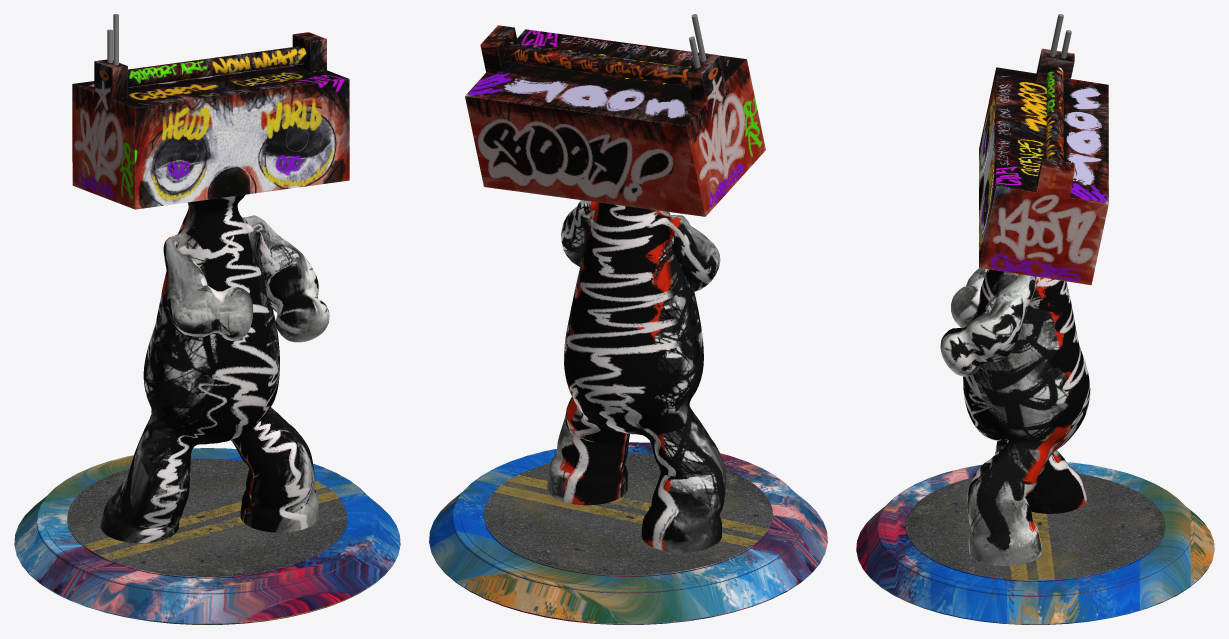
File: 65_sanitized.glb
3 views of the same model, side by side, from view 1: azimuth 30°, elevation 25°; view 2: azimuth 150°, elevation 25°; view 3: azimuth 270°, elevation 25° (orthographic). The views are drawn at different scales.
Parts seen in each view (by area): view 1: BBody; view 2: BBody; view 3: BBody.
Part boxes in pixels (<box>): BBody: <box>14,14,400,624</box>; BBody: <box>429,14,827,624</box>; BBody: <box>856,14,1214,624</box>.
Size of the model in its own units: 1.45 by 2.23 by 1.45.
5 materials, 4 textured.
